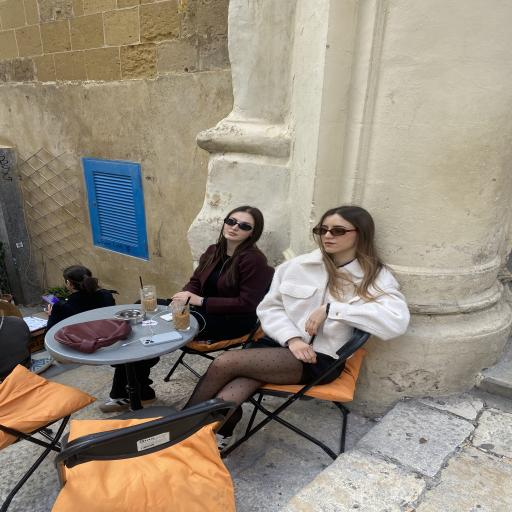masa: (318, 212, 368, 254)
